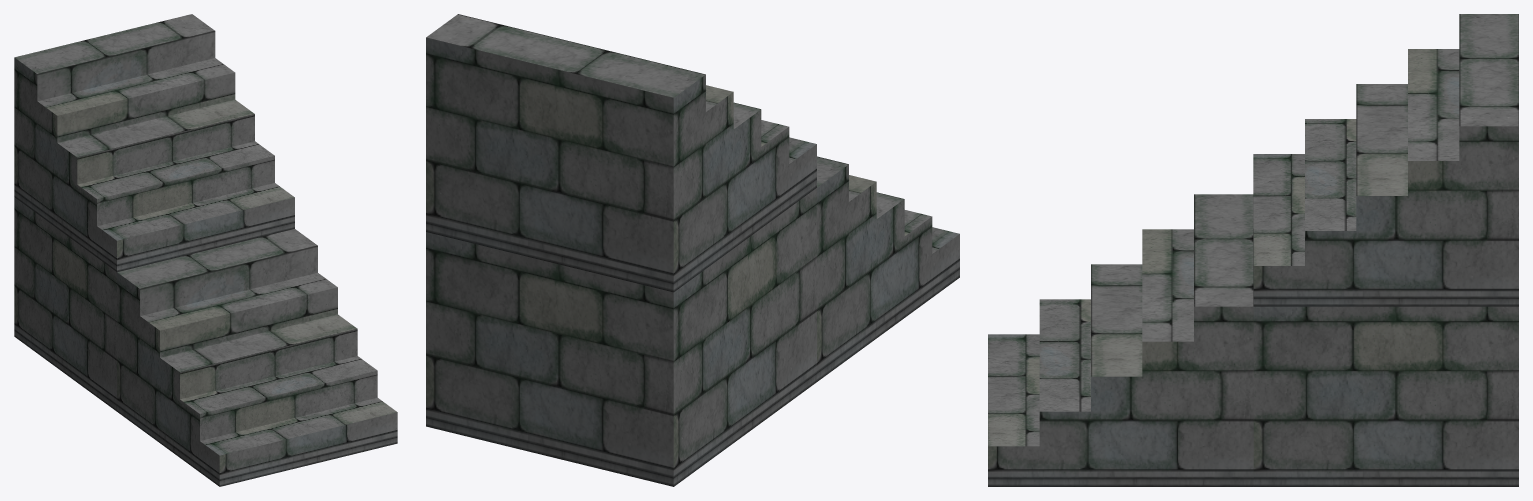
File: stairs_small_01.glb
The picture shows the model from 3 angles, left to right: view 1: azimuth 30°, elevation 25°; view 2: azimuth 150°, elevation 25°; view 3: azimuth 270°, elevation 25°; orthographic projection. The views are drawn at different scales.
Parts seen in each view (by area): view 1: stairs_small_01; view 2: stairs_small_01; view 3: stairs_small_01.
Boxes of the visible parts, x1,y1,x2,y2 form: stairs_small_01: [14, 14, 397, 486]; stairs_small_01: [426, 14, 959, 486]; stairs_small_01: [988, 14, 1518, 486].
Size of the model in its own units: 2 by 3 by 4.
Materials: 1 (1 with a texture image).
